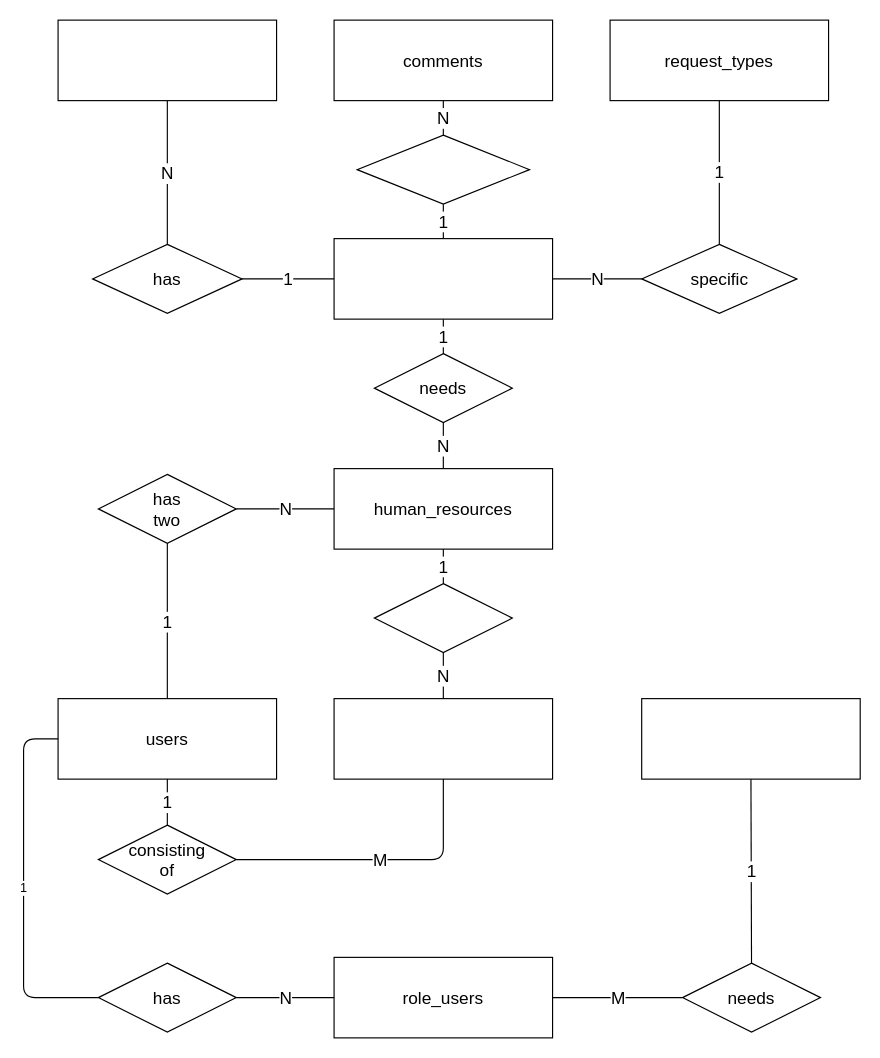
The diagram is 880 pixels wide and 1058 high, and some of its shapes have lost their labels. The box of each missing label's shape, as (x1, y1, x2, y2) in pixels:
has different: (356, 134, 530, 204)
has many: (373, 582, 512, 653)
request_periods: (57, 19, 277, 101)
requests: (333, 237, 553, 319)
roles: (641, 697, 860, 779)
user_stand_ins: (333, 697, 553, 779)
